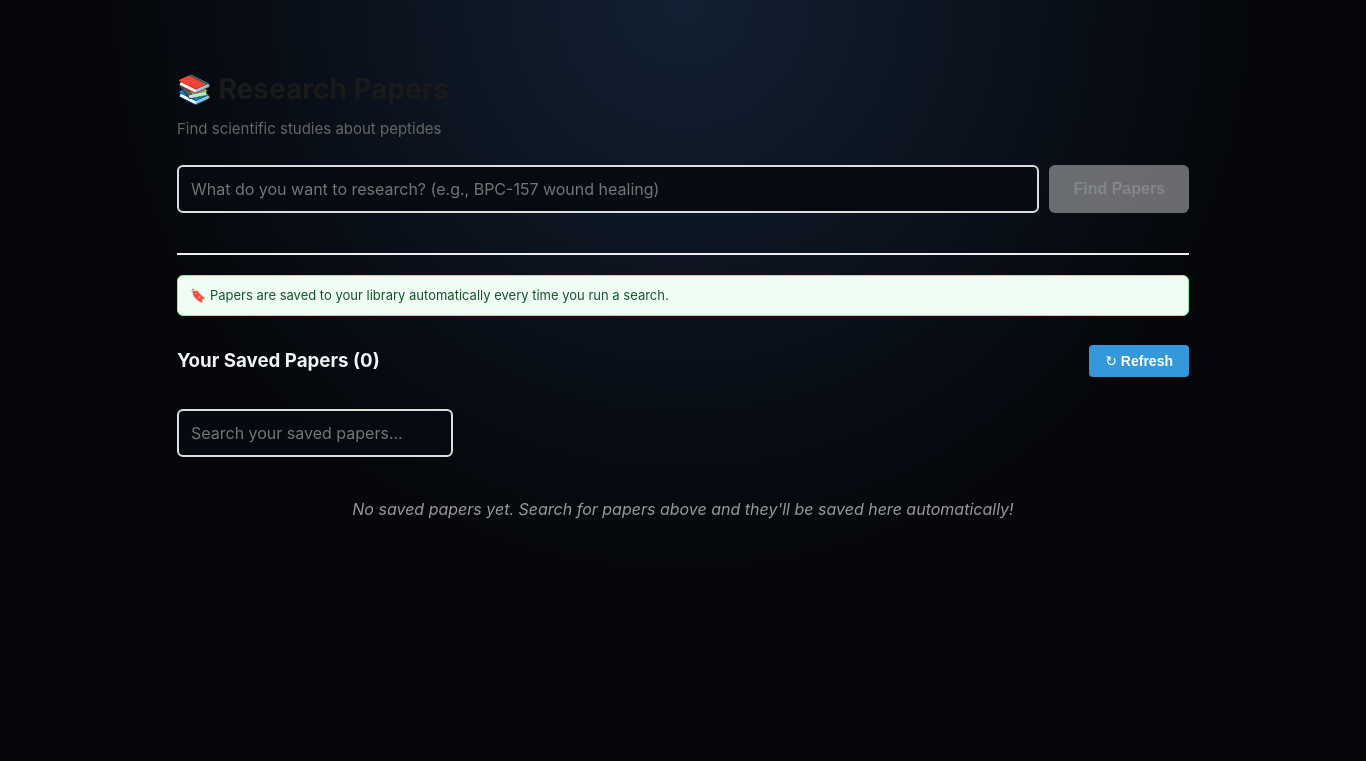
LiteratureSearch Component › displays search results after search
The width and height of the screenshot is (1366, 761).
Type "BPC-157" into the field with id "literature-search-input" at (608, 188), box [177,164,1039,212]
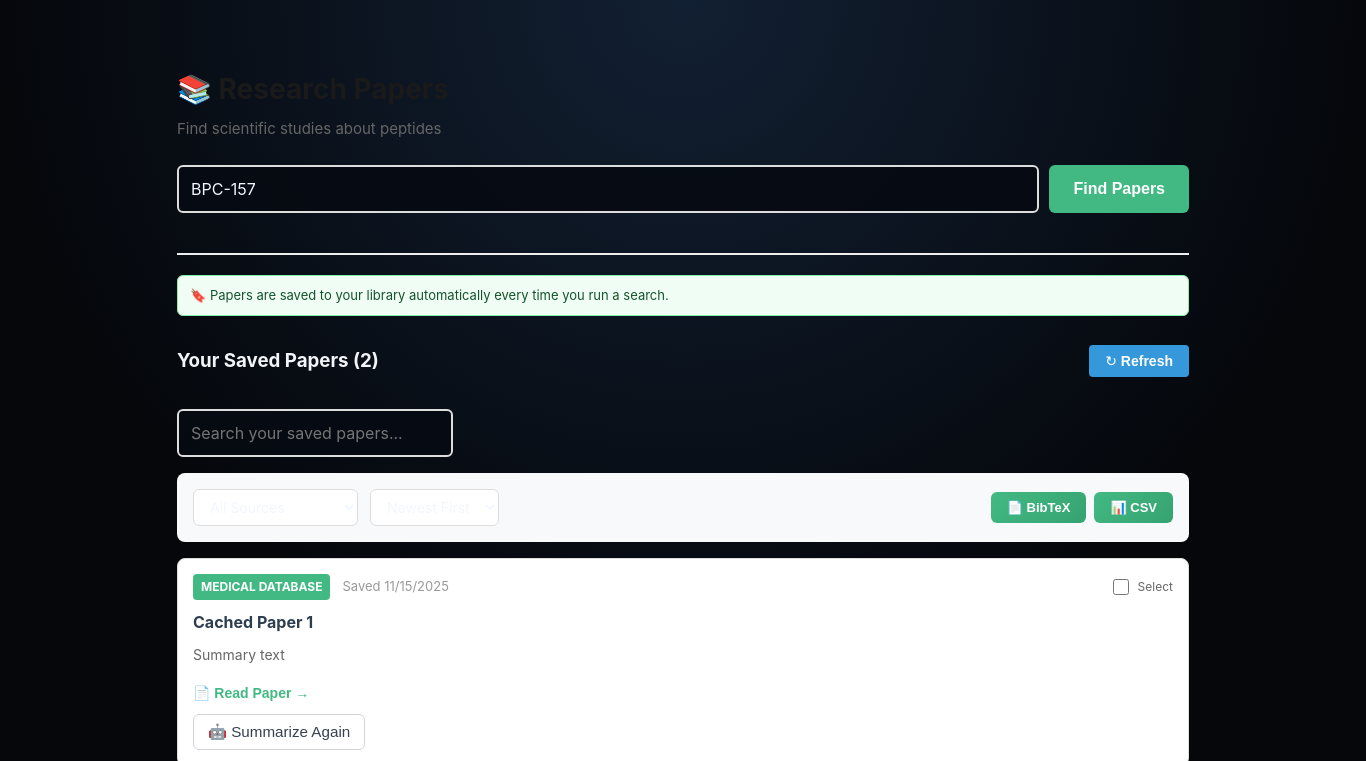
Click the button with class "search-btn" at (1119, 188), box [1049,164,1189,212]
(page scrolled)
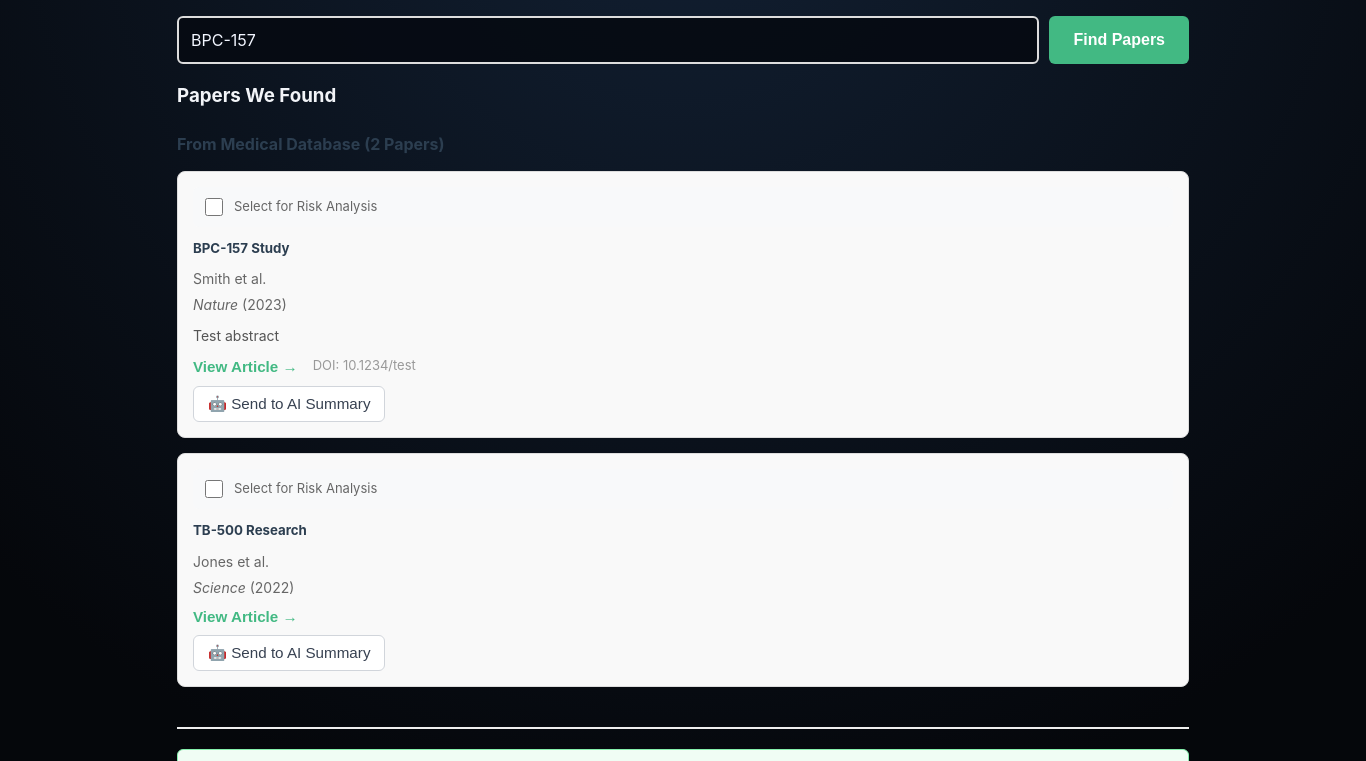
Expected: the element with class "search-results" is shown, [177,82,1189,687]
Expected: the number of elements with class "result-card" is 2, [177,171,1189,438]; [177,453,1189,687]
